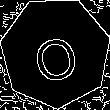O_N: (28, 22, 83, 83)
